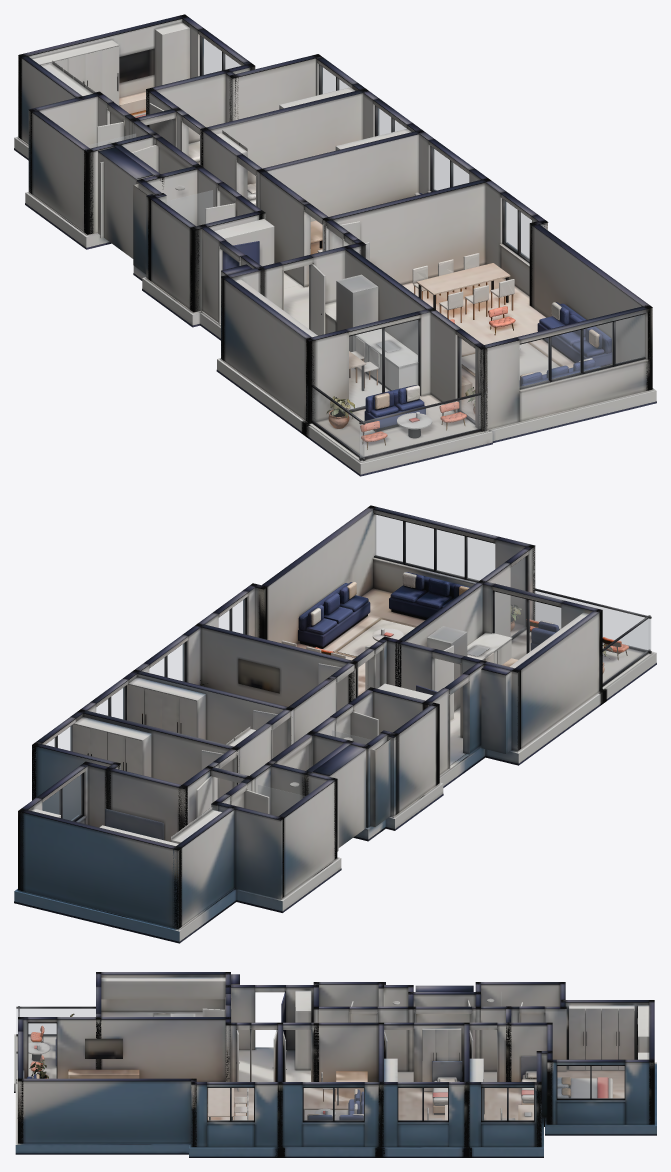
The picture shows the model from 3 angles, top to bottom: view 1: azimuth 30°, elevation 25°; view 2: azimuth 150°, elevation 25°; view 3: azimuth 270°, elevation 25°; orthographic projection. The views are drawn at different scales.
Parts seen in each view (by area): view 1: plan, glass5_m, glass7_m, railg2_m, railg3_m, glass6_m, glass4_m, sg.002_m, glass3_m, glass0_m; view 2: plan, glass5_m, glass7_m, railg2_m, railg3_m, glass0_m, glass6_m, sg_m, glass3_m; view 3: plan, glass0_m, glass3_m, glass1_m, glass2_m, glass4_m, glass6_m, railg3_m.
Part boxes in pixels (x1,y1,x2,y2): plan: (14, 14, 656, 476); glass5_m: (520, 314, 644, 387); glass7_m: (349, 320, 418, 409); railg2_m: (360, 395, 480, 457); railg3_m: (312, 388, 364, 457); glass6_m: (459, 337, 474, 420); glass4_m: (504, 200, 531, 260); sg.002_m: (167, 190, 212, 225); glass3_m: (432, 148, 468, 190); glass0_m: (202, 37, 240, 74); plan: (14, 505, 656, 943); glass5_m: (375, 515, 494, 580); glass7_m: (494, 592, 560, 659); railg2_m: (535, 591, 650, 650); railg3_m: (603, 619, 649, 683); glass0_m: (42, 774, 81, 820); glass6_m: (511, 557, 525, 636); sg_m: (258, 785, 304, 815); glass3_m: (149, 643, 184, 681); plan: (14, 972, 656, 1157); glass0_m: (557, 1066, 624, 1098); glass3_m: (304, 1088, 363, 1120); glass1_m: (482, 1088, 533, 1120); glass2_m: (398, 1088, 447, 1120); glass4_m: (208, 1088, 253, 1120); glass6_m: (28, 1023, 56, 1078); railg3_m: (16, 1009, 95, 1033).
Size of the model in its own units: 8.82 by 2.62 by 21.
Materials: 2 (1 with a texture image).
